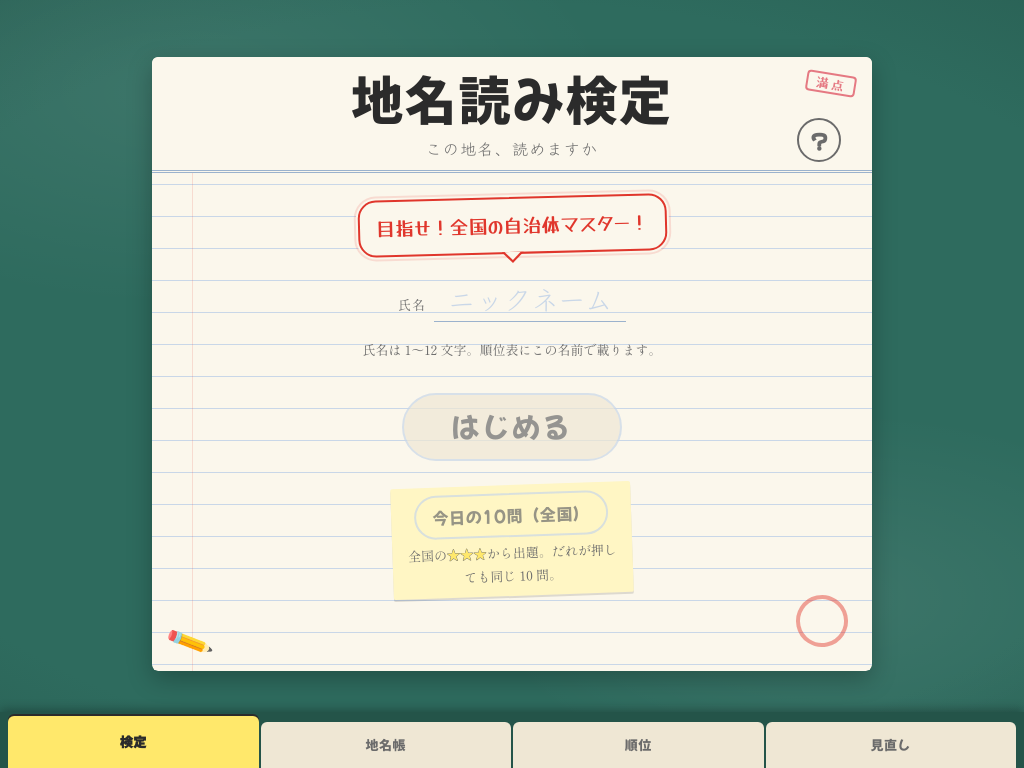
Scenario: 表紙 › maxLength により 13 文字目は打ち込めない
Step 1. Type "あいうえおかきくけこさしす" into the field → (530, 300), box [434, 278, 626, 322]
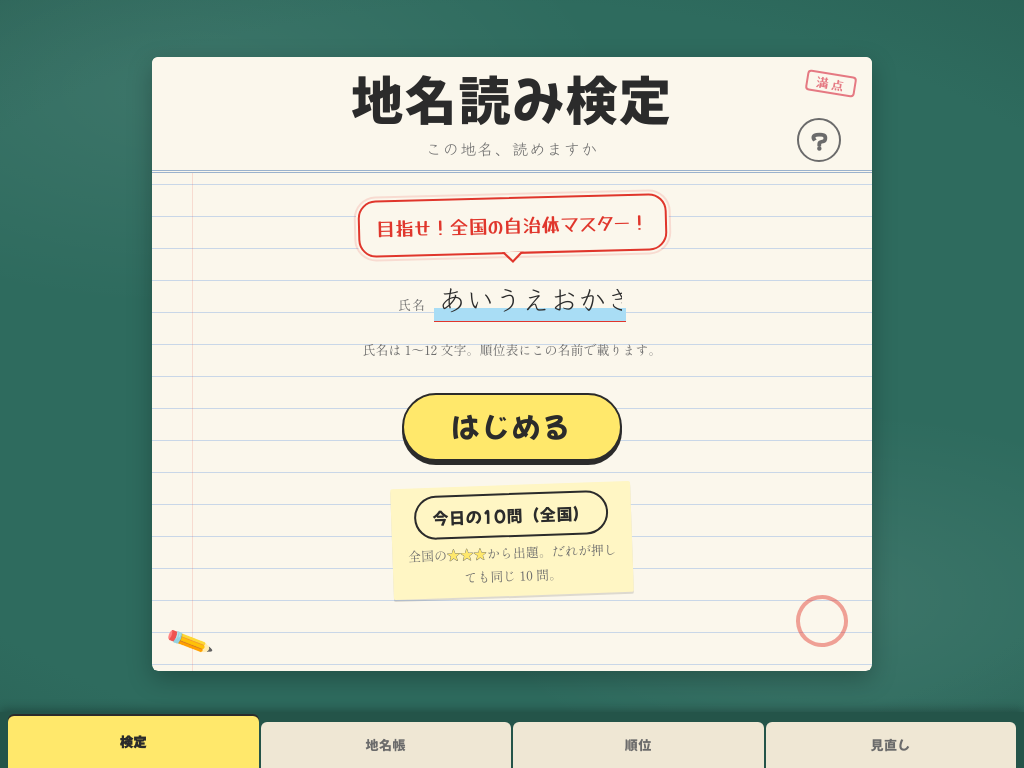
Expected: the field holds "あいうえおかきくけこさし", [434, 278, 626, 322]
Expected: the button "はじめる" is enabled, [402, 393, 622, 461]
